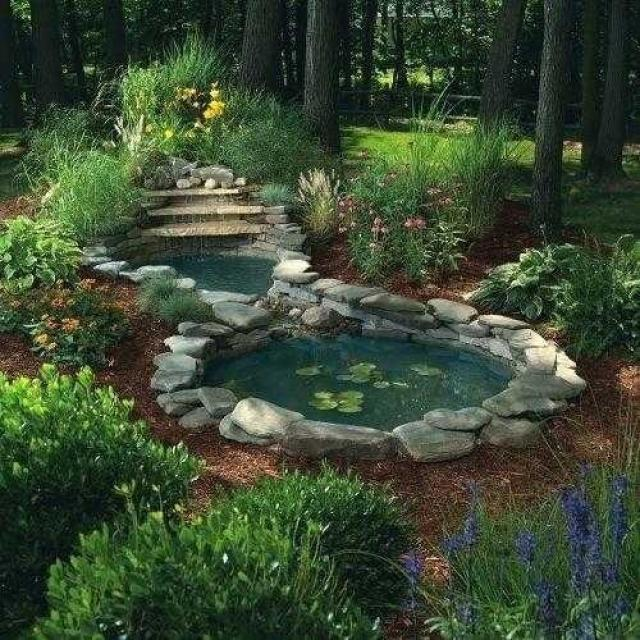Ponds: (93, 213, 583, 467)
